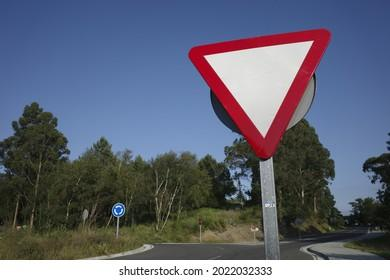Give Way: (182, 24, 338, 156)
